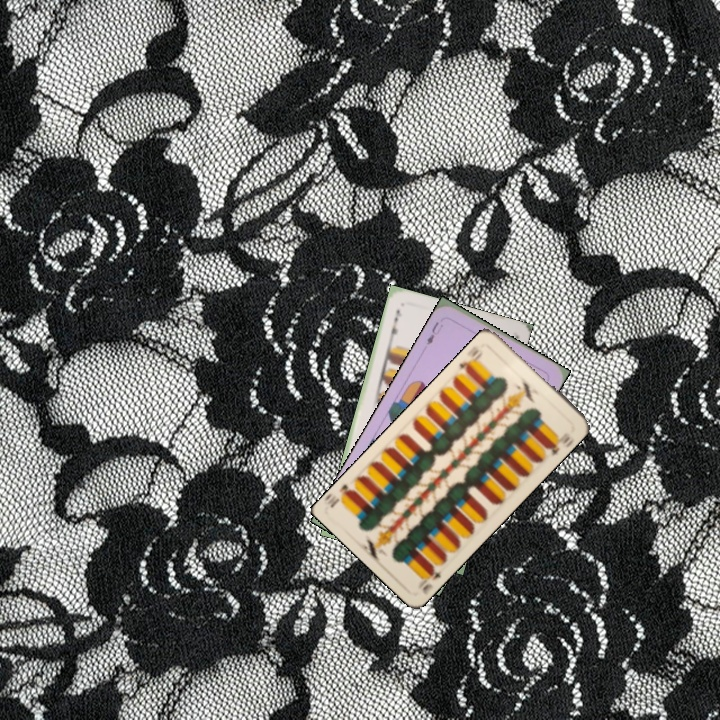E10: (418, 561, 448, 596), (455, 345, 486, 376)
E7: (385, 305, 404, 342)
EU: (423, 318, 446, 348)
